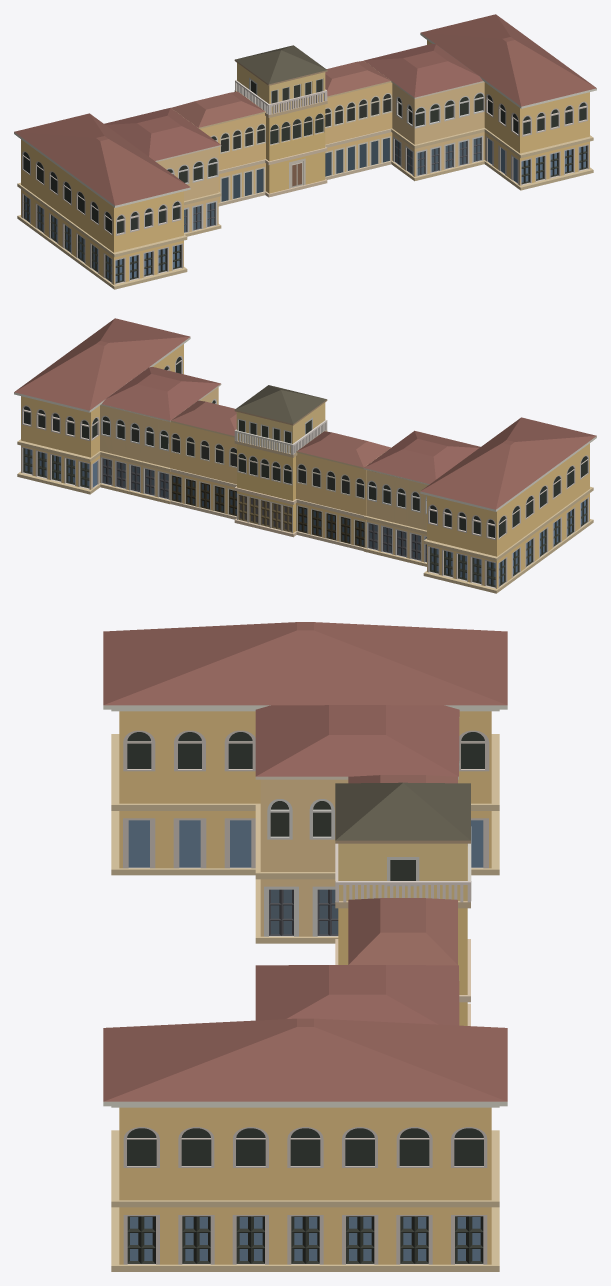
Rendered from palace.glb.
The picture shows the model from 3 angles, top to bottom: view 1: azimuth 30°, elevation 25°; view 2: azimuth 150°, elevation 25°; view 3: azimuth 270°, elevation 25°; orthographic projection. The views are drawn at different scales.
Parts seen in each view (by area): view 1: center.001; view 2: center.001; view 3: center.001.
Part boxes in pixels (bbox=[...]): center.001: bbox=[14, 14, 596, 289]; center.001: bbox=[14, 318, 596, 593]; center.001: bbox=[103, 622, 507, 1271].
Bounding box in the file's own units: 51.6 × 13.07 × 18.75.
